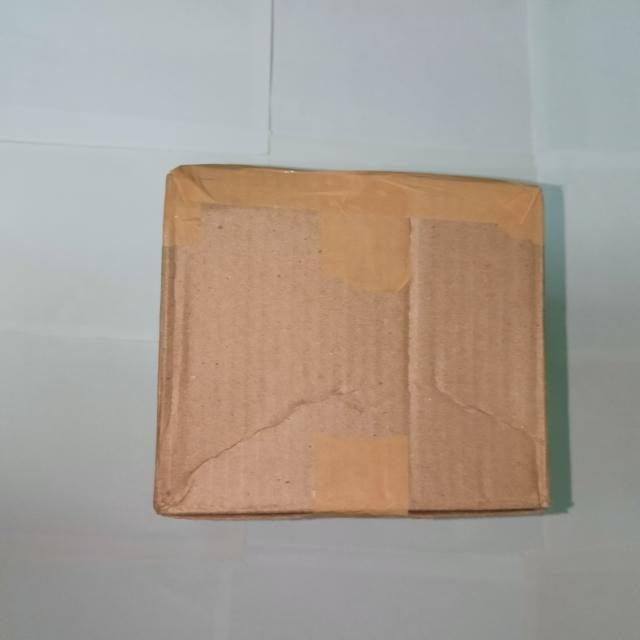box: (156, 180, 546, 508)
